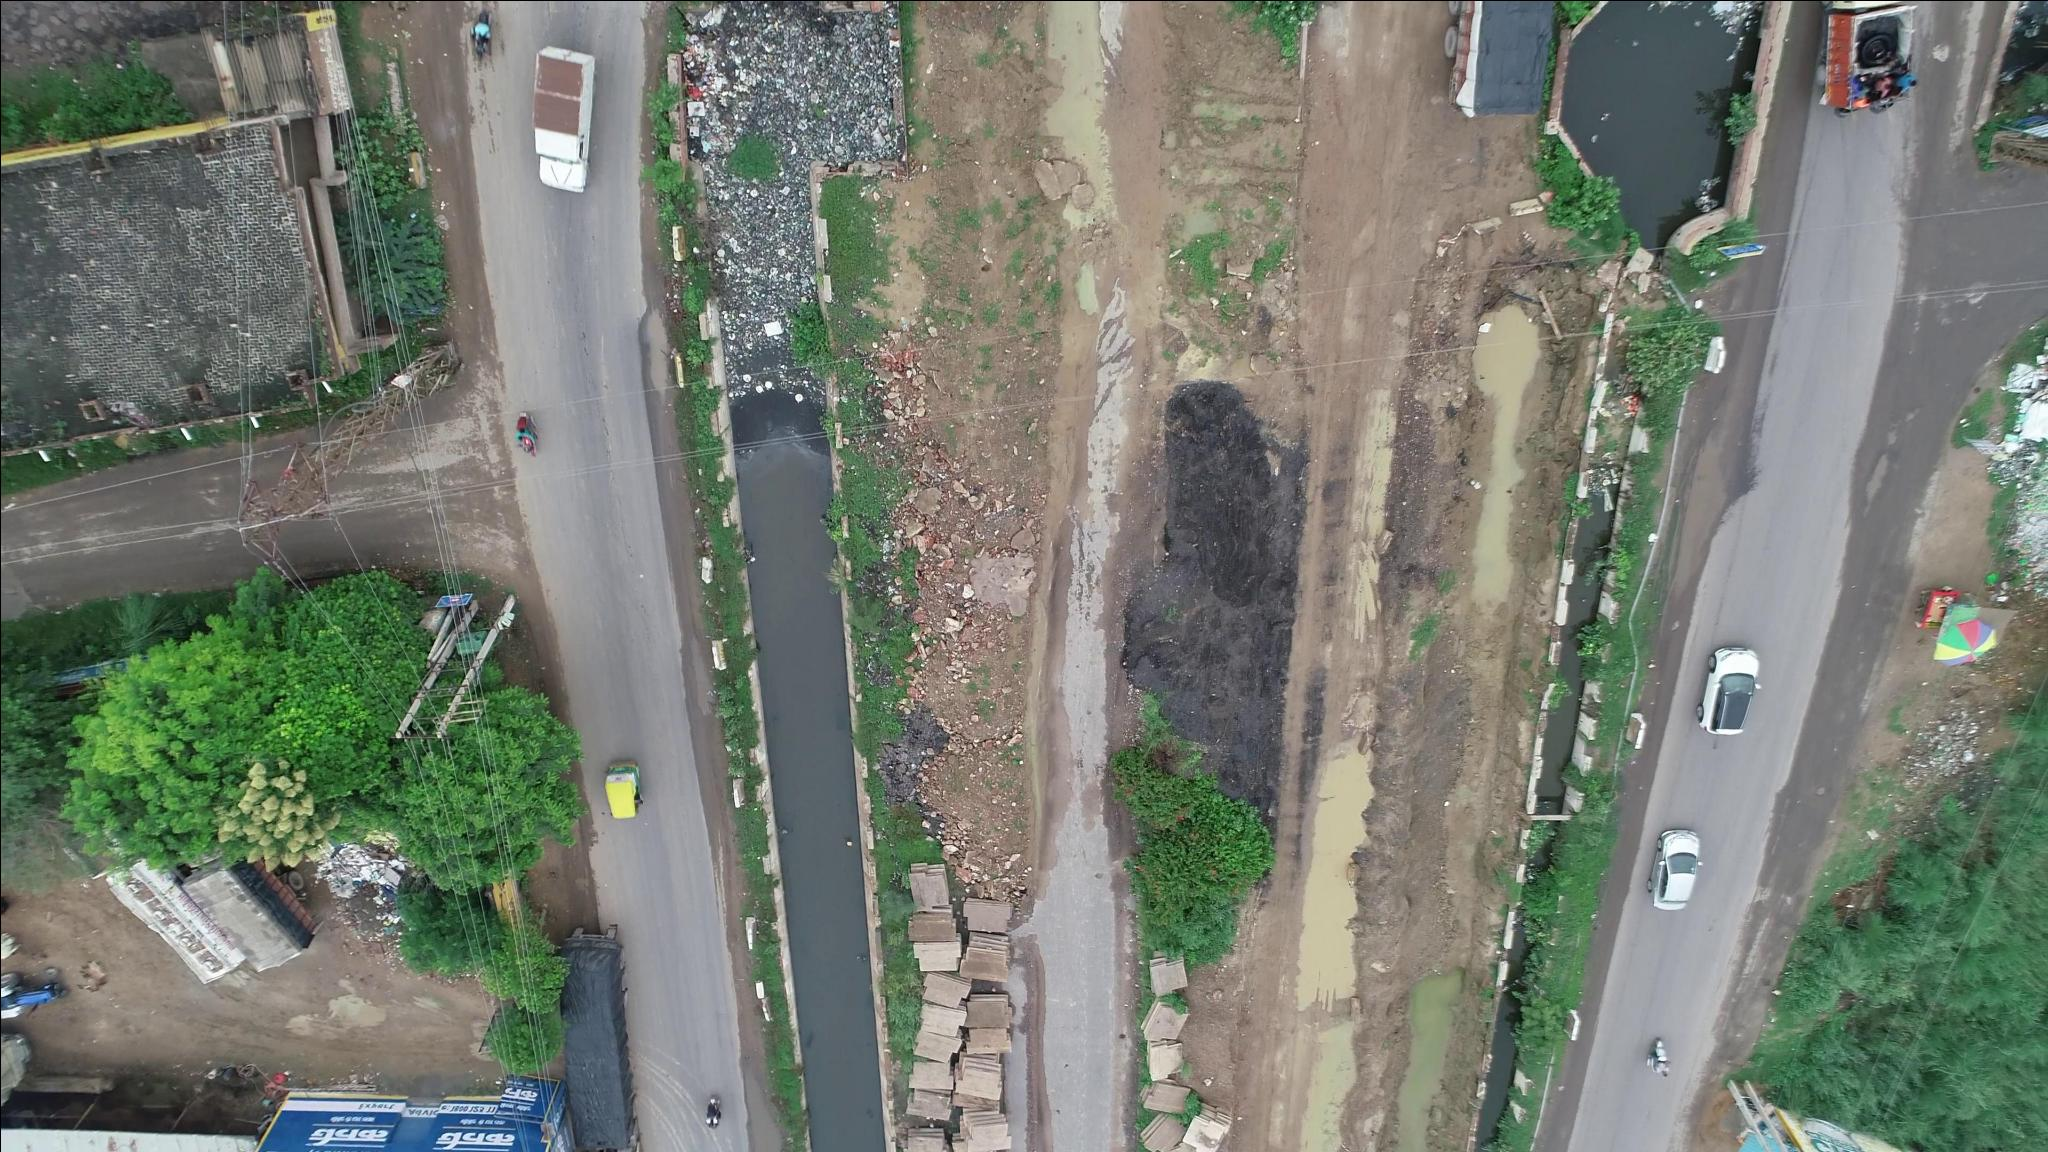Potholes: (1841, 404, 1919, 537)
